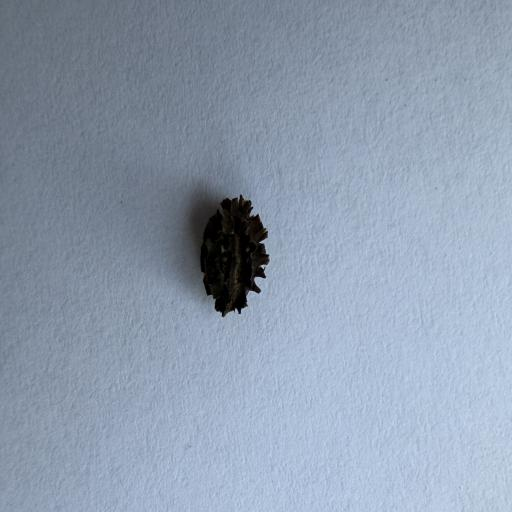papaya_seed: (187, 186, 281, 320)
